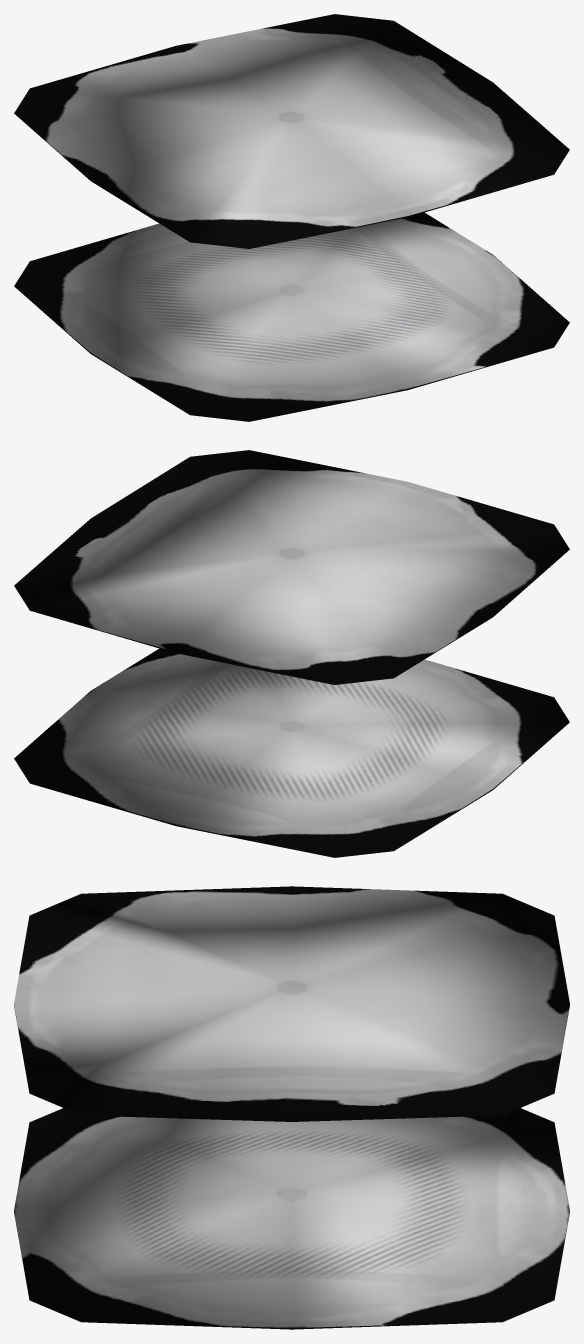
The model's file is RightUpperArm_C2.fbx.
3 views of the same model, one above another, from view 1: azimuth 30°, elevation 25°; view 2: azimuth 150°, elevation 25°; view 3: azimuth 270°, elevation 25° (orthographic). The views are drawn at different scales.
Parts seen in each view (by area): view 1: Civ_CamisaCuadros_RightUpperArm_C2; view 2: Civ_CamisaCuadros_RightUpperArm_C2; view 3: Civ_CamisaCuadros_RightUpperArm_C2.
Part boxes in pixels (x1,y1,x2,y2): Civ_CamisaCuadros_RightUpperArm_C2: (14,14,569,421); Civ_CamisaCuadros_RightUpperArm_C2: (14,450,569,857); Civ_CamisaCuadros_RightUpperArm_C2: (14,886,569,1329).
Bounding box in the file's own units: 1.21 × 0.5824 × 1.21.
